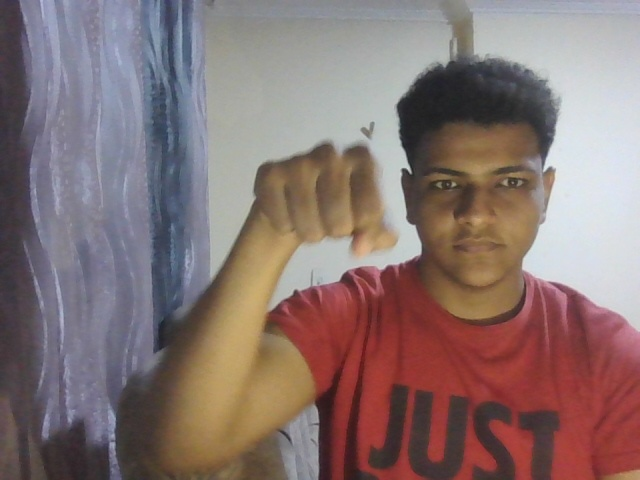yes: (247, 122, 408, 312)
